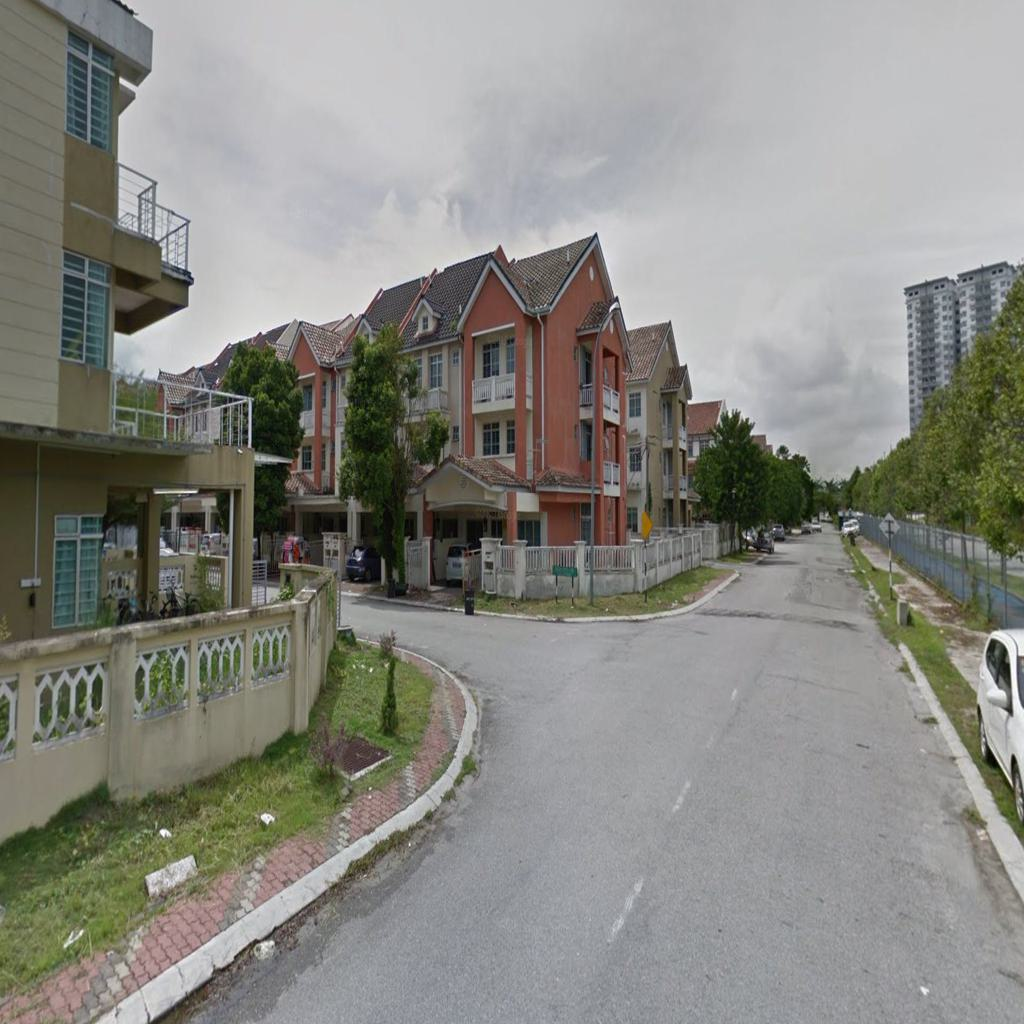Junction: (344, 571, 698, 779)
